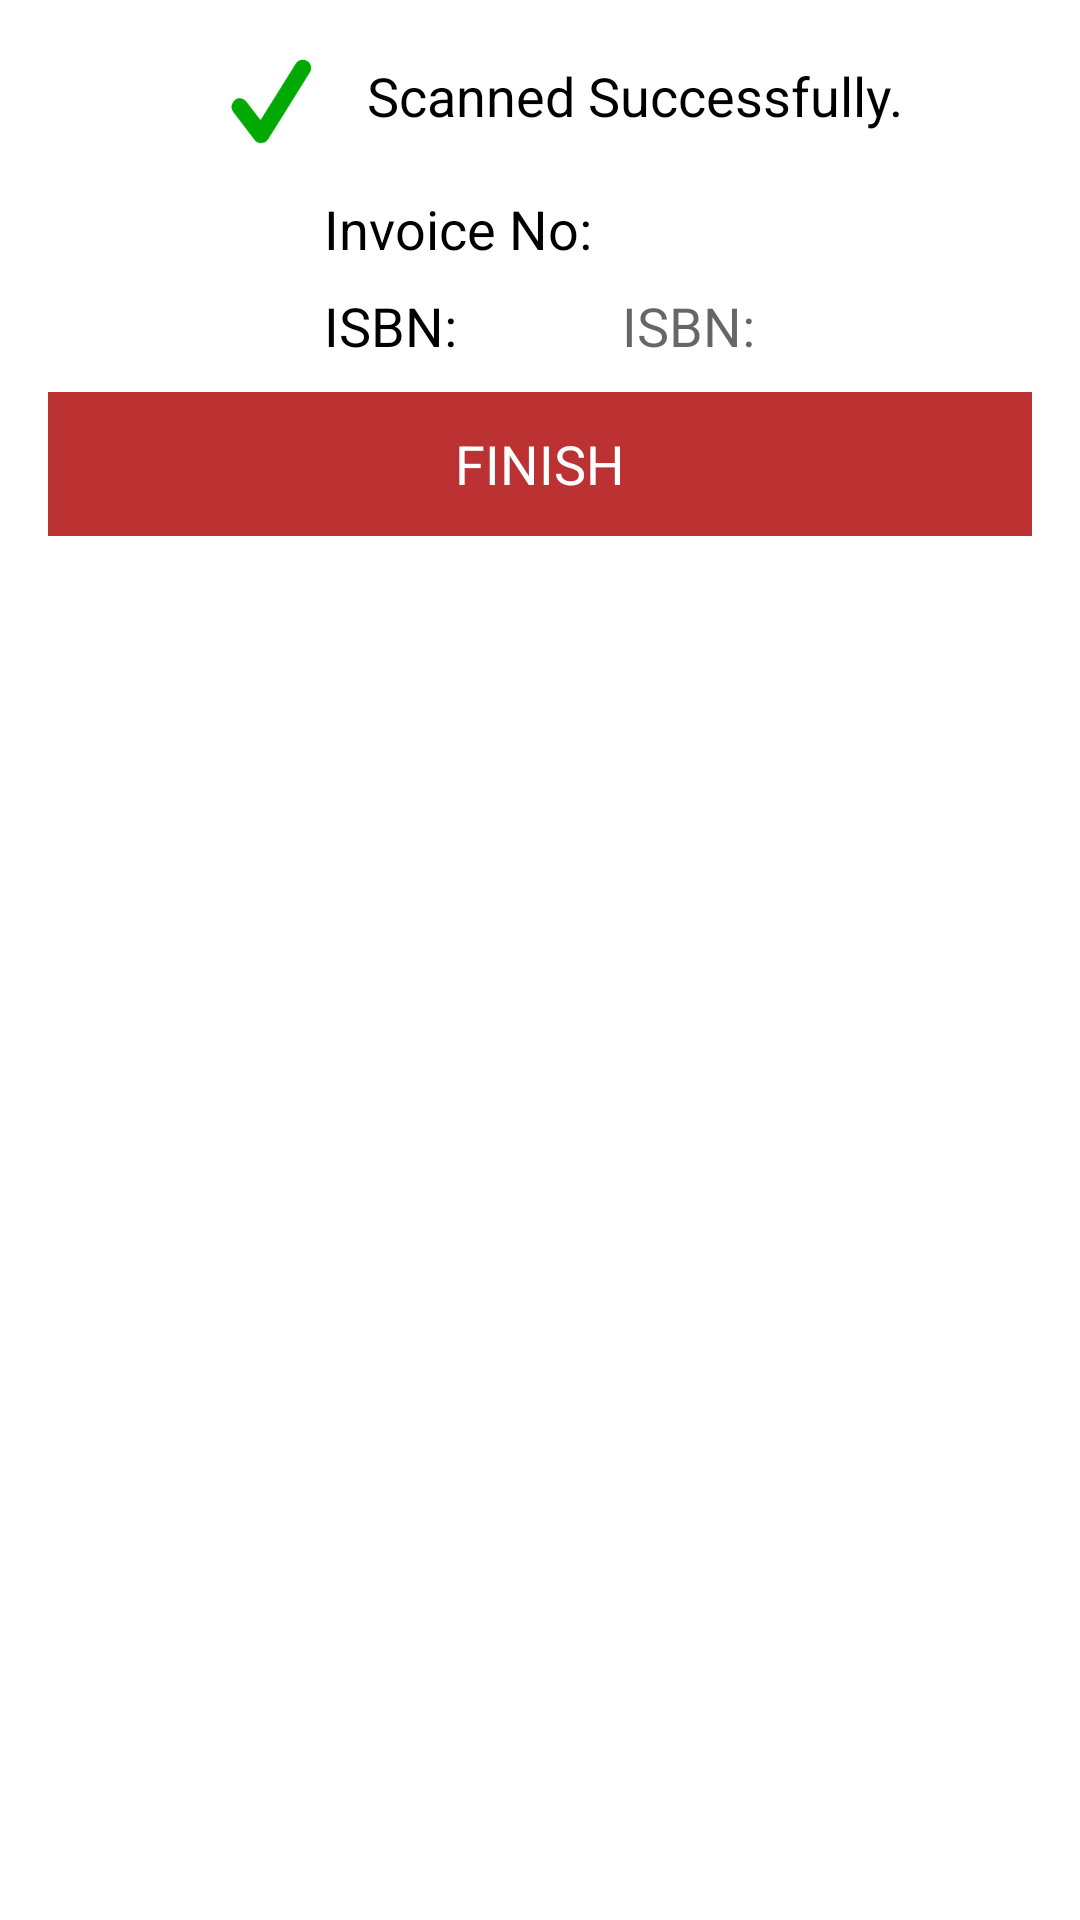

Screen size 1080 x 1920. Icon name, then its box in pixels as [x1=x1, y1=y1, x2=x2, y2=y2]:
sucess: [x1=231, y1=59, x2=312, y2=144]
